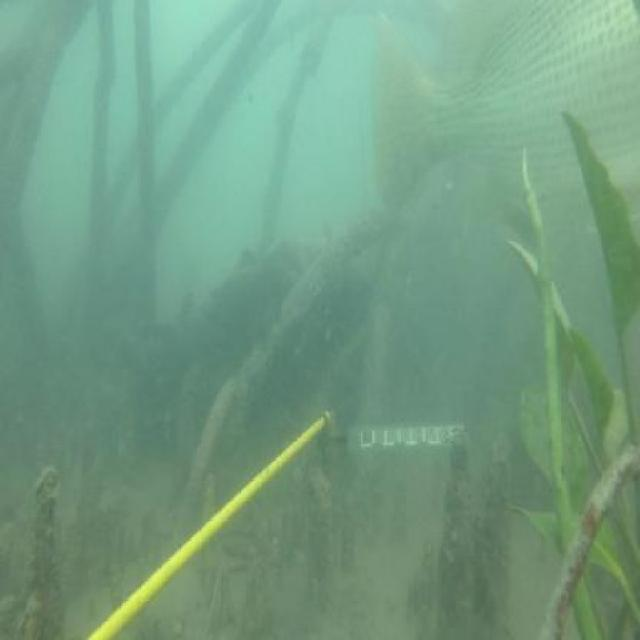lutjanus_johnii: (361, 3, 640, 224)
